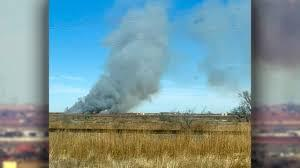smoke: (102, 6, 168, 93), (194, 16, 237, 89), (66, 92, 133, 113)
